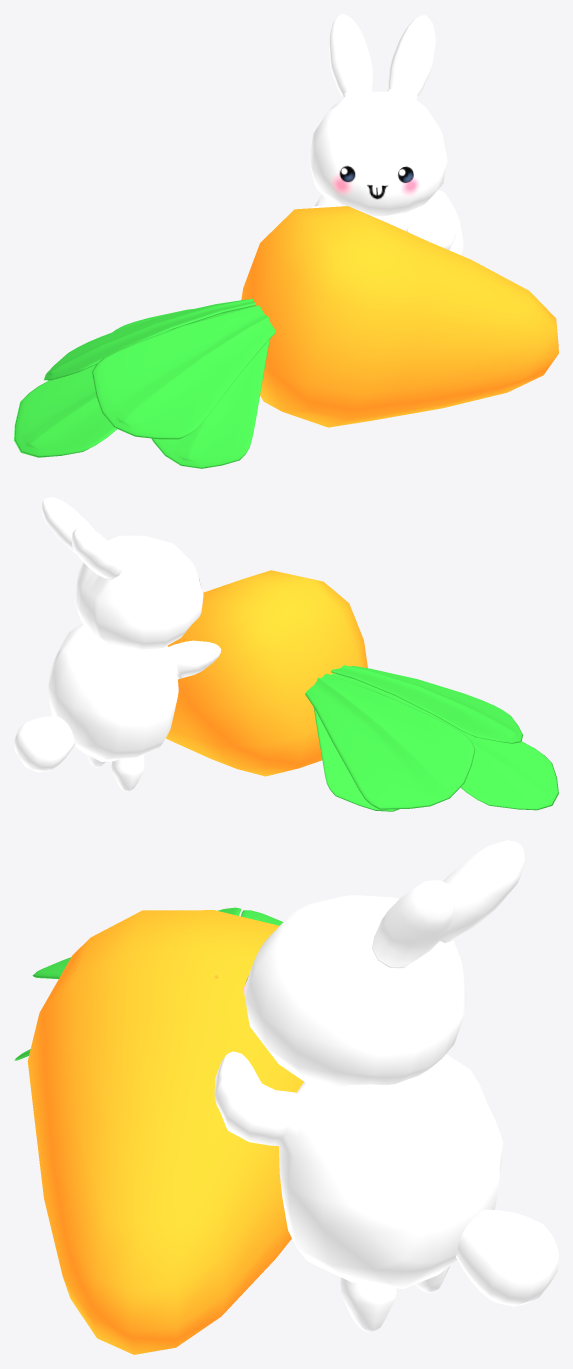
Rendered from quinn_rabbit.glb.
3 renders of one model, top to bottom at view 1: azimuth 30°, elevation 25°; view 2: azimuth 150°, elevation 25°; view 3: azimuth 270°, elevation 25°, orthographic. The views are drawn at different scales.
Visible parts, largest first — view 1: zanahoria_low, hojas_low, cuerpo_low; view 2: cuerpo_low, zanahoria_low, hojas_low; view 3: cuerpo_low, zanahoria_low, hojas_low.
Part boxes in pixels (x1=…): zanahoria_low: x1=241, y1=206, x2=558, y2=427; hojas_low: x1=14, y1=298, x2=275, y2=468; cuerpo_low: x1=309, y1=14, x2=463, y2=255; cuerpo_low: x1=14, y1=497, x2=221, y2=791; zanahoria_low: x1=166, y1=570, x2=367, y2=776; hojas_low: x1=305, y1=665, x2=558, y2=811; cuerpo_low: x1=214, y1=840, x2=558, y2=1332; zanahoria_low: x1=27, y1=910, x2=303, y2=1354; hojas_low: x1=14, y1=907, x2=282, y2=1060.
Bounding box in the file's own units: 2.61 × 1.48 × 1.53.
1 material, 1 textured.
